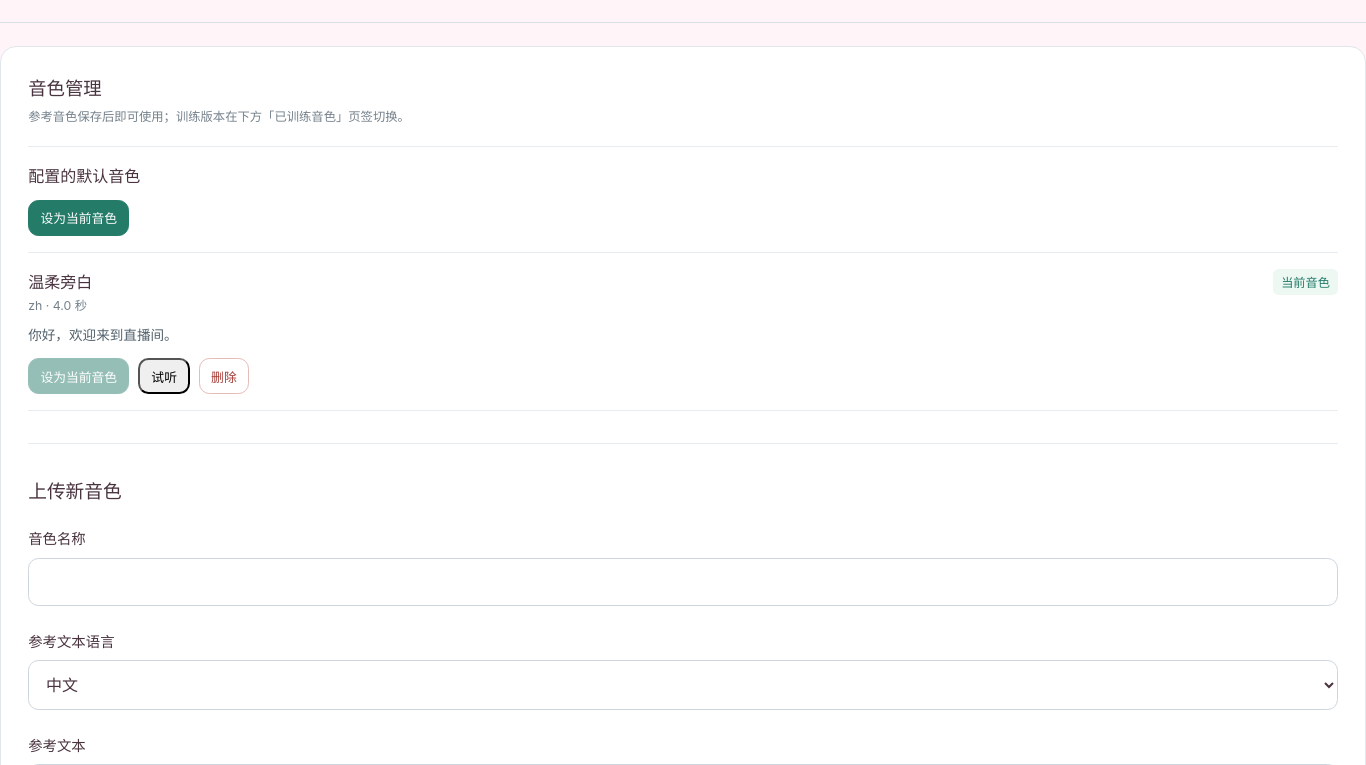
音色管理 › 文件清理失败后保留重试入口，即使音色记录已消失
The width and height of the screenshot is (1366, 765).
Click the button with aria-label "删除音色 温柔旁白": click(224, 376) [199,358,249,394]
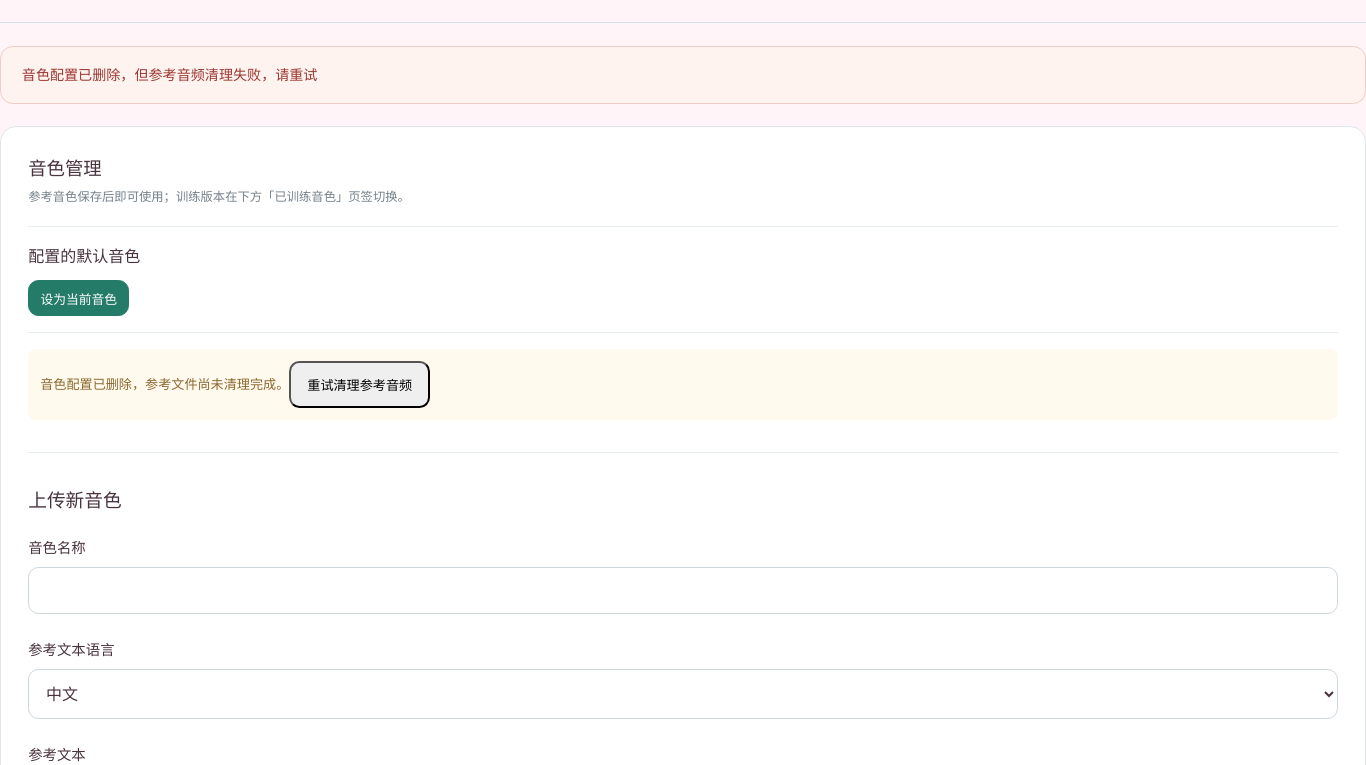
Click the button "重试清理参考音频": click(360, 385) [289,361,430,408]
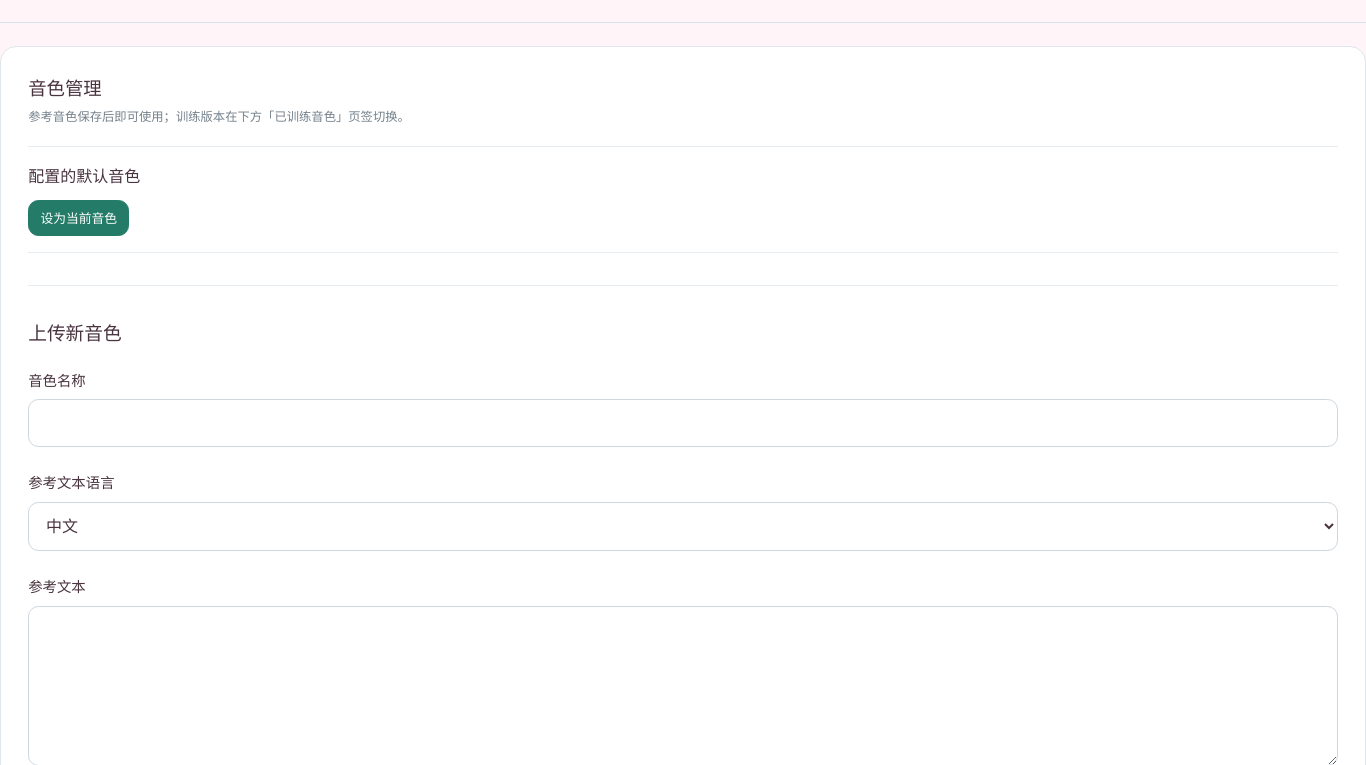
Expected: the button "重试清理参考音频" is gone
